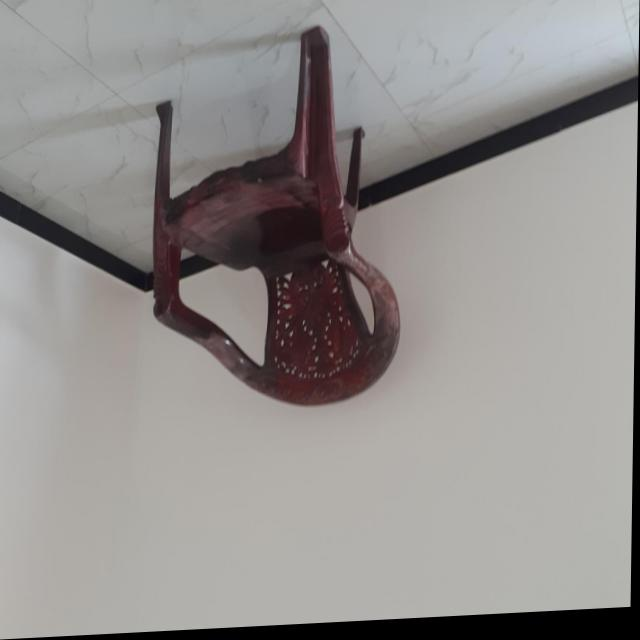Chair: (151, 26, 404, 417)
